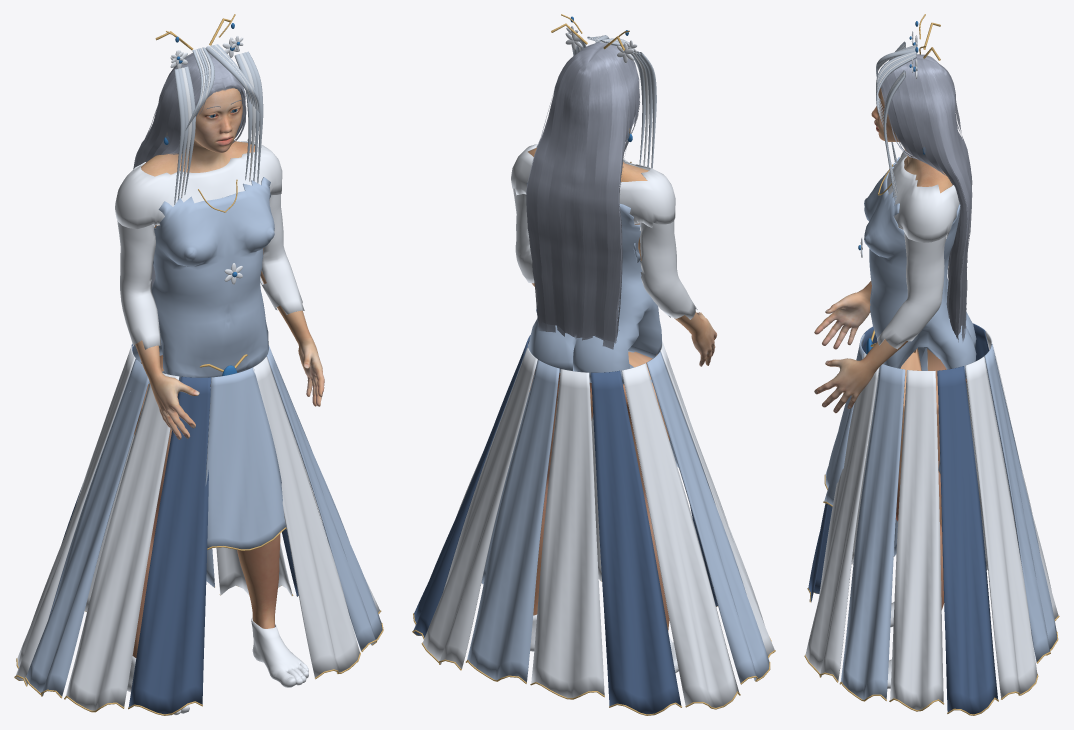
File: yueli-study.glb
3 views of the same model, side by side, from view 1: azimuth 30°, elevation 25°; view 2: azimuth 150°, elevation 25°; view 3: azimuth 270°, elevation 25° (orthographic). The views are drawn at different scales.
Parts seen in each view (by area): view 1: Fitted bodice shell, Skirt panel 12, Skirt panel 11, Qingli female base — CC0 study, Front short layered apron, Skirt panel 01, Skirt panel 10, Upper inner collar, Skirt panel 02, Fitted sleeve -1, CC0 long hair base candidate, Skirt panel 09 (+3 smaller); view 2: CC0 long hair base candidate, Skirt panel 08, Skirt panel 07, Skirt panel 09, Skirt panel 06, Skirt panel 05, Skirt panel 10, Fitted bodice shell, Qingli female base — CC0 study, Fitted sleeve -1, Upper inner collar, Skirt panel 04 (+2 smaller); view 3: Skirt panel 03, Skirt panel 04, Skirt panel 02, Skirt panel 05, CC0 long hair base candidate, Fitted bodice shell, Skirt panel 01, Qingli female base — CC0 study, Skirt panel 06, Fitted sleeve 1, Upper inner collar, Front short layered apron (+3 smaller).
Part boxes in pixels (left/top/right/bottom): Fitted bodice shell: left=130, top=177, right=274, bottom=391; Skirt panel 12: left=128, top=376, right=210, bottom=714; Skirt panel 11: left=65, top=373, right=179, bottom=710; Qingli female base — CC0 study: left=132, top=88, right=324, bottom=657; Front short layered apron: left=205, top=367, right=286, bottom=549; Skirt panel 01: left=253, top=356, right=359, bottom=677; Skirt panel 10: left=26, top=359, right=149, bottom=696; Upper inner collar: left=115, top=139, right=282, bottom=228; Skirt panel 02: left=266, top=345, right=382, bottom=650; Fitted sleeve -1: left=117, top=220, right=161, bottom=349; CC0 long hair base candidate: left=133, top=51, right=246, bottom=288; Skirt panel 09: left=15, top=345, right=135, bottom=685; CC0 long hair base candidate: left=526, top=42, right=640, bottom=349; Skirt panel 08: left=591, top=370, right=681, bottom=714; Skirt panel 07: left=531, top=369, right=604, bottom=697; Skirt panel 09: left=621, top=363, right=739, bottom=707; Skirt panel 06: left=467, top=360, right=559, bottom=682; Skirt panel 05: left=423, top=347, right=537, bottom=669; Skirt panel 10: left=646, top=351, right=769, bottom=682; Fitted bodice shell: left=526, top=183, right=662, bottom=388; Qingli female base — CC0 study: left=528, top=147, right=716, bottom=631; Fitted sleeve -1: left=639, top=221, right=697, bottom=319; Upper inner collar: left=511, top=144, right=675, bottom=227; Skirt panel 04: left=413, top=335, right=530, bottom=637; Skirt panel 03: left=890, top=370, right=943, bottom=709; Skirt panel 04: left=937, top=366, right=998, bottom=714; Skirt panel 02: left=840, top=364, right=905, bottom=699; Skirt panel 05: left=965, top=356, right=1037, bottom=698; CC0 long hair base candidate: left=880, top=54, right=972, bottom=342; Fitted bodice shell: left=864, top=157, right=976, bottom=378; Skirt panel 01: left=805, top=352, right=879, bottom=681; Qingli female base — CC0 study: left=814, top=88, right=966, bottom=609; Skirt panel 06: left=984, top=344, right=1057, bottom=662; Fitted sleeve 1: left=877, top=232, right=946, bottom=349; Upper inner collar: left=887, top=150, right=959, bottom=242; Front short layered apron: left=824, top=333, right=864, bottom=505.
Bounding box in the file's own units: 0.9648 × 1.77 × 0.6545.
14 materials, 2 textured.
